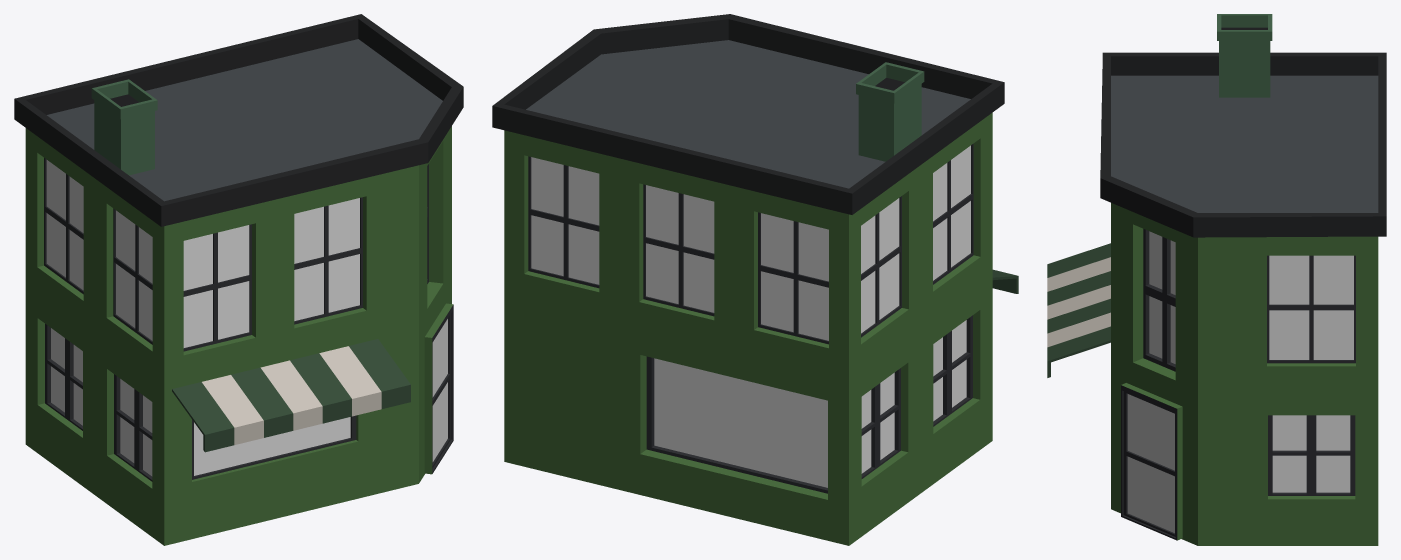
The model's file is SM_hostel_01_B.gltf.
3 views of the same model, side by side, from view 1: azimuth 30°, elevation 25°; view 2: azimuth 150°, elevation 25°; view 3: azimuth 270°, elevation 25° (orthographic). The views are drawn at different scales.
Visible parts, largest first — view 1: SM_hostel_01_B; view 2: SM_hostel_01_B; view 3: SM_hostel_01_B.
Boxes of the visible parts, <box> form: SM_hostel_01_B: <box>14,14,463,545</box>; SM_hostel_01_B: <box>492,14,1018,545</box>; SM_hostel_01_B: <box>1047,14,1386,545</box>.
Bounding box in the file's own units: 4.72 × 5.08 × 4.1.
